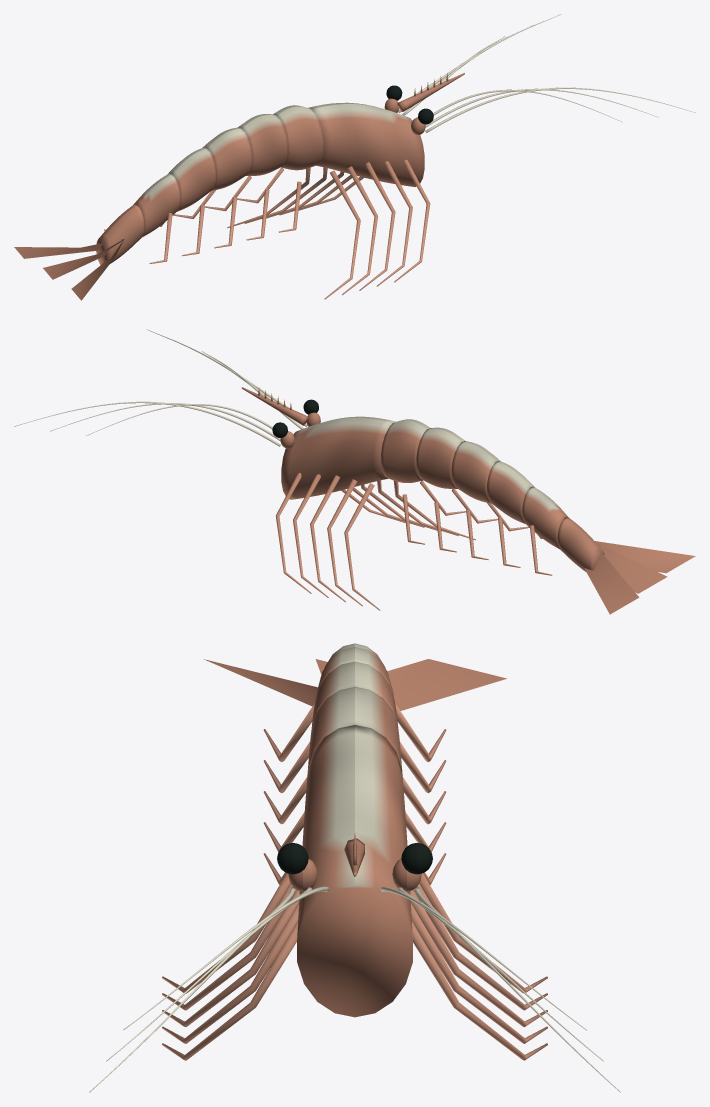
File: cleanershrimp-desktop.glb
The picture shows the model from 3 angles, top to bottom: view 1: azimuth 30°, elevation 25°; view 2: azimuth 150°, elevation 25°; view 3: azimuth 270°, elevation 25°; orthographic projection. The views are drawn at different scales.
Visible parts, largest first — view 1: carapace, pereiopod, antenna, pleopod, serrated-rostrum; view 2: carapace, pereiopod, antenna, pleopod, serrated-rostrum; view 3: carapace, pereiopod, pleopod, antenna, eye, eye-stalk.
Boxes of the visible parts, x1,y1,x2,y2 form: carapace: [14, 102, 424, 300]; pereiopod: [227, 159, 430, 299]; antenna: [398, 14, 695, 132]; pleopod: [104, 167, 301, 263]; serrated-rostrum: [397, 73, 464, 111]; carapace: [281, 416, 695, 614]; pereiopod: [276, 472, 475, 610]; antenna: [14, 329, 307, 446]; pleopod: [402, 480, 552, 575]; serrated-rostrum: [241, 387, 308, 425]; carapace: [204, 643, 506, 1017]; pereiopod: [162, 873, 547, 1060]; pleopod: [263, 703, 446, 884]; antenna: [89, 886, 620, 1092]; eye: [277, 843, 432, 874]; eye-stalk: [288, 859, 421, 891].
Bounding box in the file's own units: 1.18 × 0.2938 × 0.4706.
